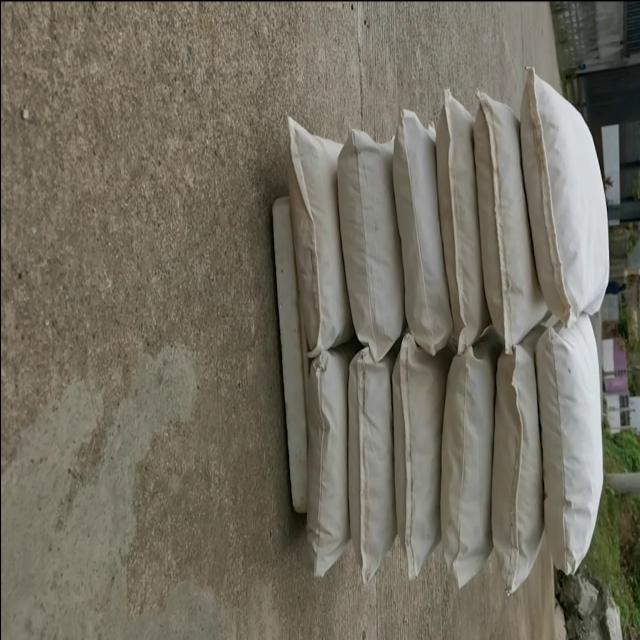Sack: (510, 66, 620, 323), (529, 321, 613, 589), (467, 86, 550, 357), (377, 102, 460, 366), (271, 113, 355, 361), (330, 113, 410, 367), (422, 82, 494, 358), (486, 346, 561, 602), (432, 352, 511, 592), (286, 348, 366, 583), (390, 343, 458, 587), (340, 352, 408, 586)
